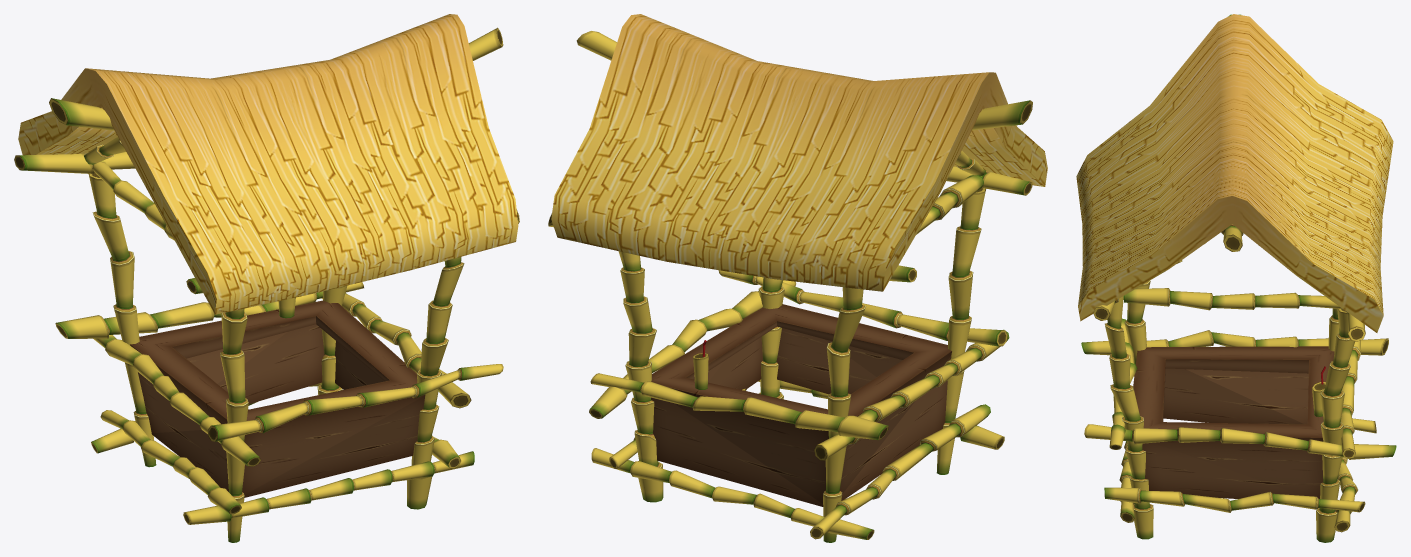
The model's file is TikiHut01.fbx.
3 renders of one model, left to right at view 1: azimuth 30°, elevation 25°; view 2: azimuth 150°, elevation 25°; view 3: azimuth 270°, elevation 25°, orthographic. The views are drawn at different scales.
Visible parts, largest first — view 1: TikiHut01; view 2: TikiHut01; view 3: TikiHut01.
Boxes of the visible parts, x1,y1,x2,y2 form: TikiHut01: (14,14,519,542); TikiHut01: (548,14,1047,542); TikiHut01: (1076,14,1396,542).
Size of the model in its own units: 31.48 by 30.94 by 22.11.
